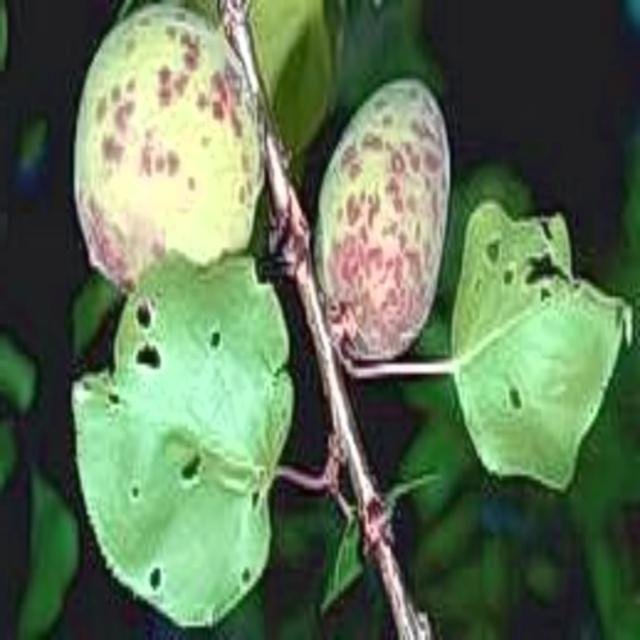shot_hole: (309, 80, 458, 396)
